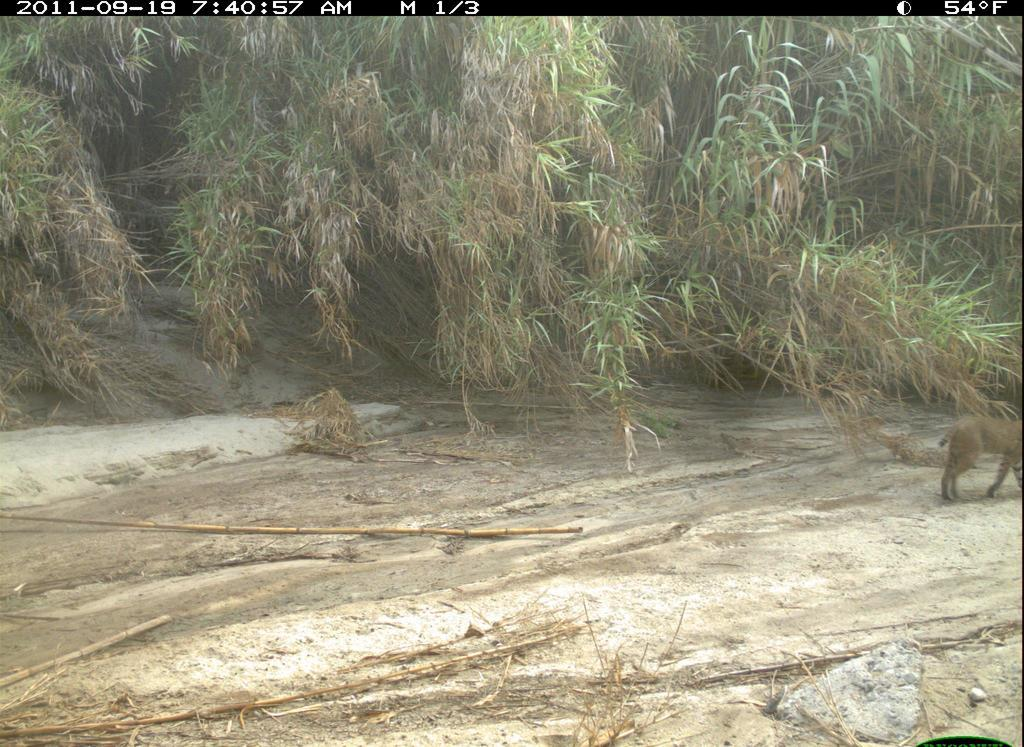bobcat: (913, 379, 1022, 516)
